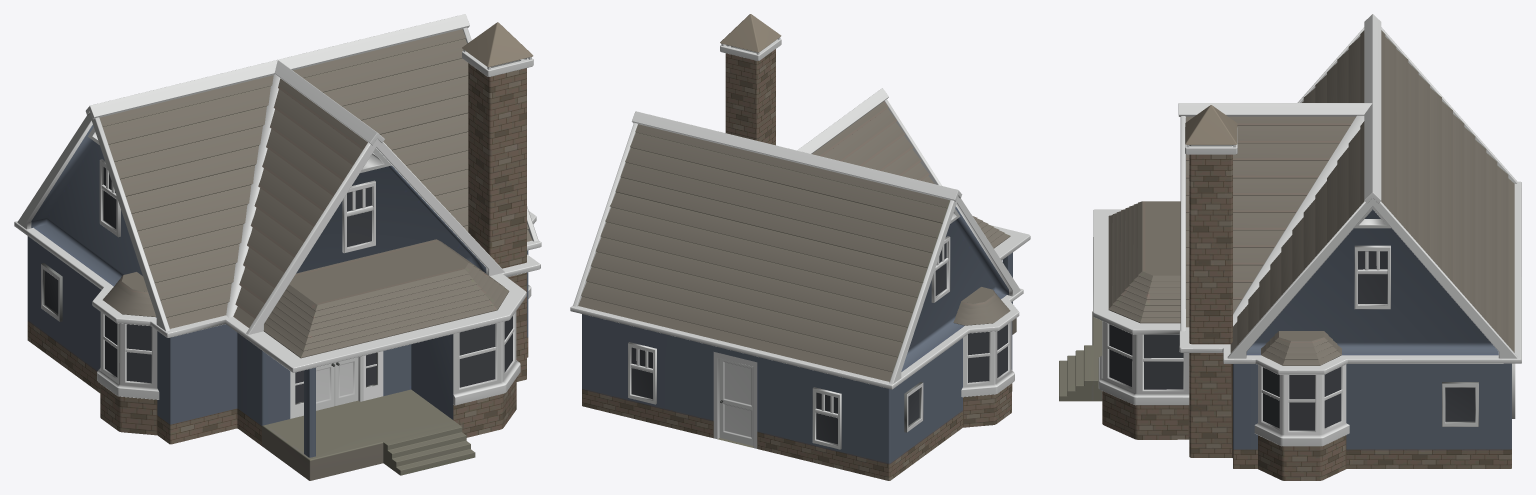
File: HouseModel.fbx
The picture shows the model from 3 angles, left to right: view 1: azimuth 30°, elevation 25°; view 2: azimuth 150°, elevation 25°; view 3: azimuth 270°, elevation 25°; orthographic projection. The views are drawn at different scales.
Parts seen in each view (by area): view 1: root; view 2: root; view 3: root.
Part boxes in pixels (box(x1,y1,x2,y2)): root: box(14, 14, 541, 480); root: box(570, 14, 1030, 480); root: box(1059, 14, 1521, 480).
Bounding box in the file's own units: 0.512 × 0.4107 × 0.5011.
Materials: 1 (1 with a texture image).
